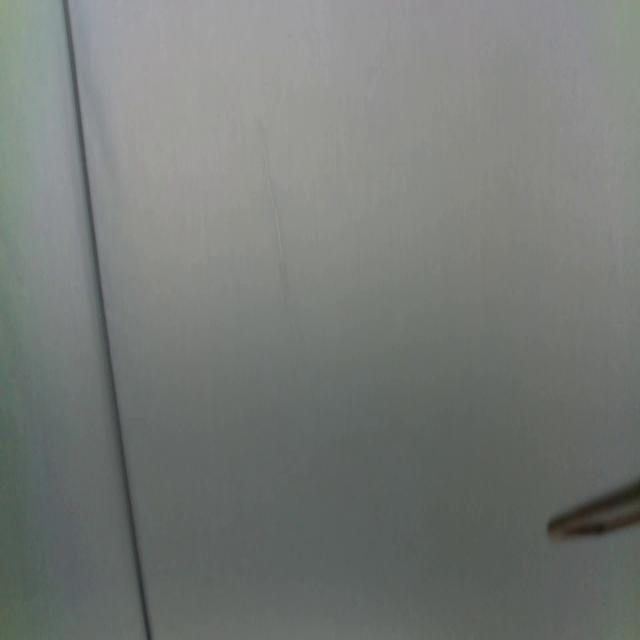crease: (61, 0, 152, 640), (256, 118, 289, 298)
